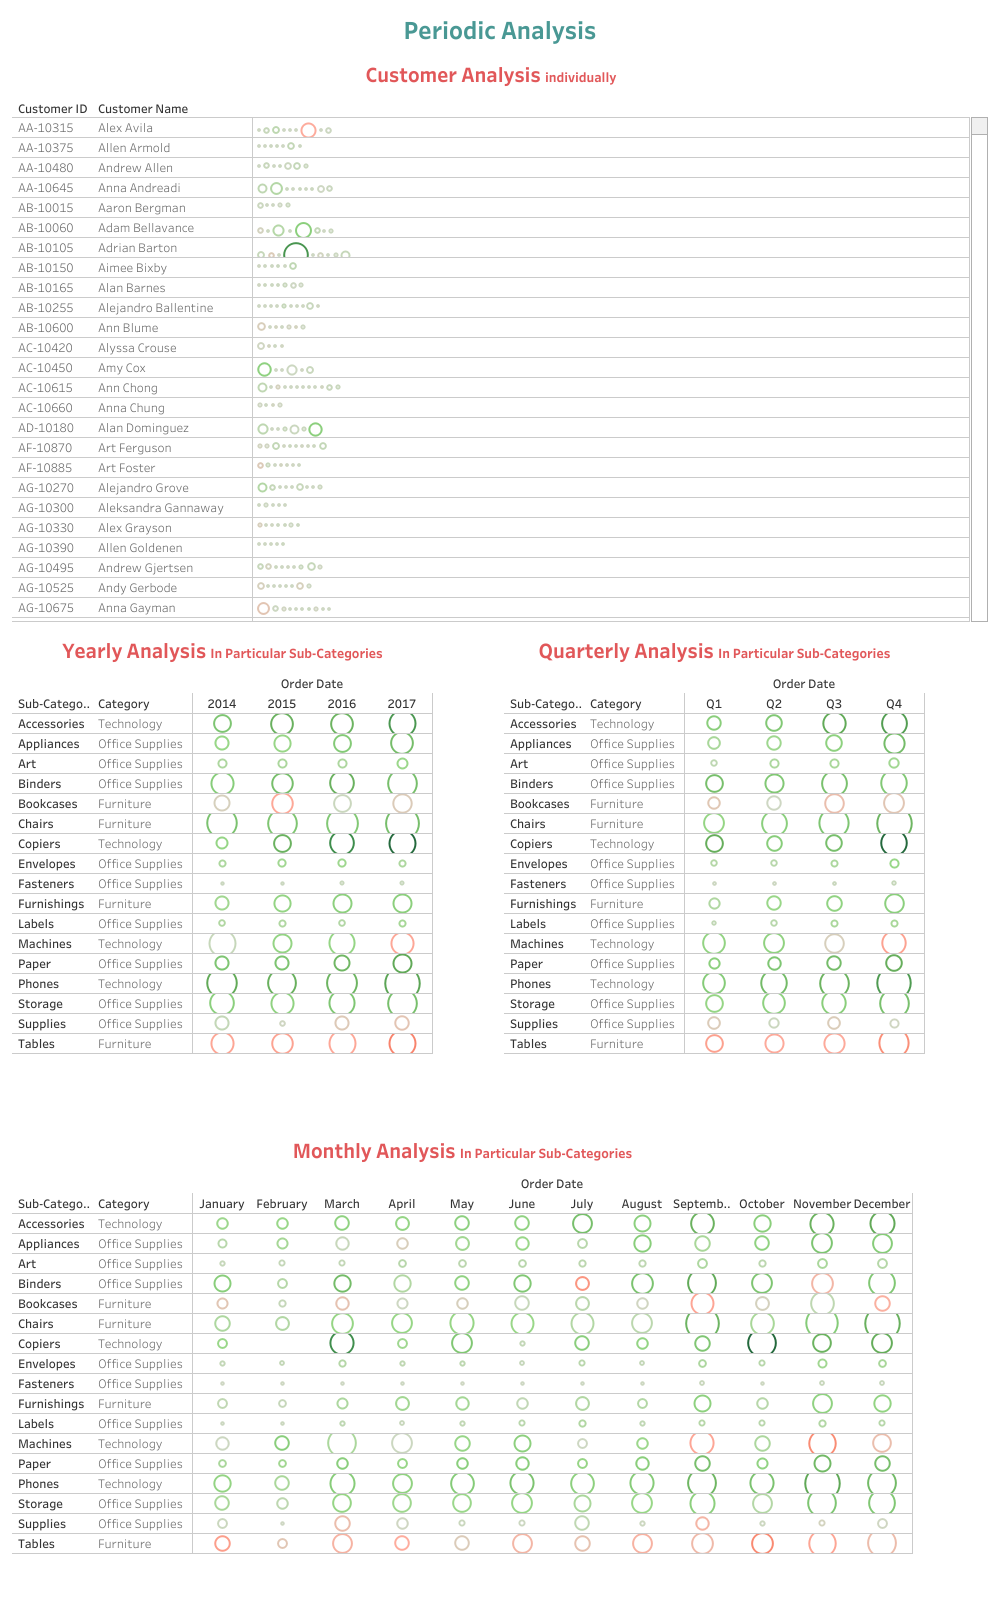

This screenshot's page, from the dashboard's own definition file:
{"tool":"tableau","page":{"name":"ProductAnalysisIndividual","canvas":[1000,1600],"ordinal":3},"visuals":[{"type":"worksheet","box":[0,0,1000,1600]},{"type":"worksheet","param":"vert","box":[8,8,984,1584]},{"type":"worksheet","box":[8,8,984,42]},{"type":"worksheet","box":[8,50,984,1542]},{"type":"worksheet","param":"horz","box":[8,50,984,1075.7]},{"type":"worksheet","box":[8,50,984,1075.7]},{"type":"worksheet","title":"CustomerInterest","mark":"Shape","rows":["Customer ID","Customer Name"],"box":[8,50,984,576.3]},{"type":"worksheet","title":"ProductSoldYearly","mark":"Shape","rows":["Sub-Category","Category"],"cols":["Order Date"],"box":[8,626.3,492,499.4]},{"type":"worksheet","title":"ProductSoldQuarterly","mark":"Shape","rows":["Sub-Category","Category"],"cols":["Order Date"],"box":[500,626.3,492,499.4]},{"type":"worksheet","title":"ProductSoldMonthly","mark":"Shape","rows":["Sub-Category","Category"],"cols":["Order Date"],"box":[8,1125.7,984,466.3]}]}

Visuals, with their boxes in screenshot pixels (x1, y1, x2, y2), scaled from the page's 1000x1600 canvas onto the 1000x1600 screenshot:
worksheet: {"left": 0, "top": 0, "right": 999, "bottom": 1599}
worksheet: {"left": 8, "top": 8, "right": 992, "bottom": 1592}
worksheet: {"left": 8, "top": 8, "right": 992, "bottom": 50}
worksheet: {"left": 8, "top": 50, "right": 992, "bottom": 1592}
worksheet: {"left": 8, "top": 50, "right": 992, "bottom": 1126}
worksheet: {"left": 8, "top": 50, "right": 992, "bottom": 1126}
"CustomerInterest" worksheet (Shape marks): {"left": 8, "top": 50, "right": 992, "bottom": 626}
"ProductSoldYearly" worksheet (Shape marks): {"left": 8, "top": 626, "right": 500, "bottom": 1126}
"ProductSoldQuarterly" worksheet (Shape marks): {"left": 500, "top": 626, "right": 992, "bottom": 1126}
"ProductSoldMonthly" worksheet (Shape marks): {"left": 8, "top": 1126, "right": 992, "bottom": 1592}
